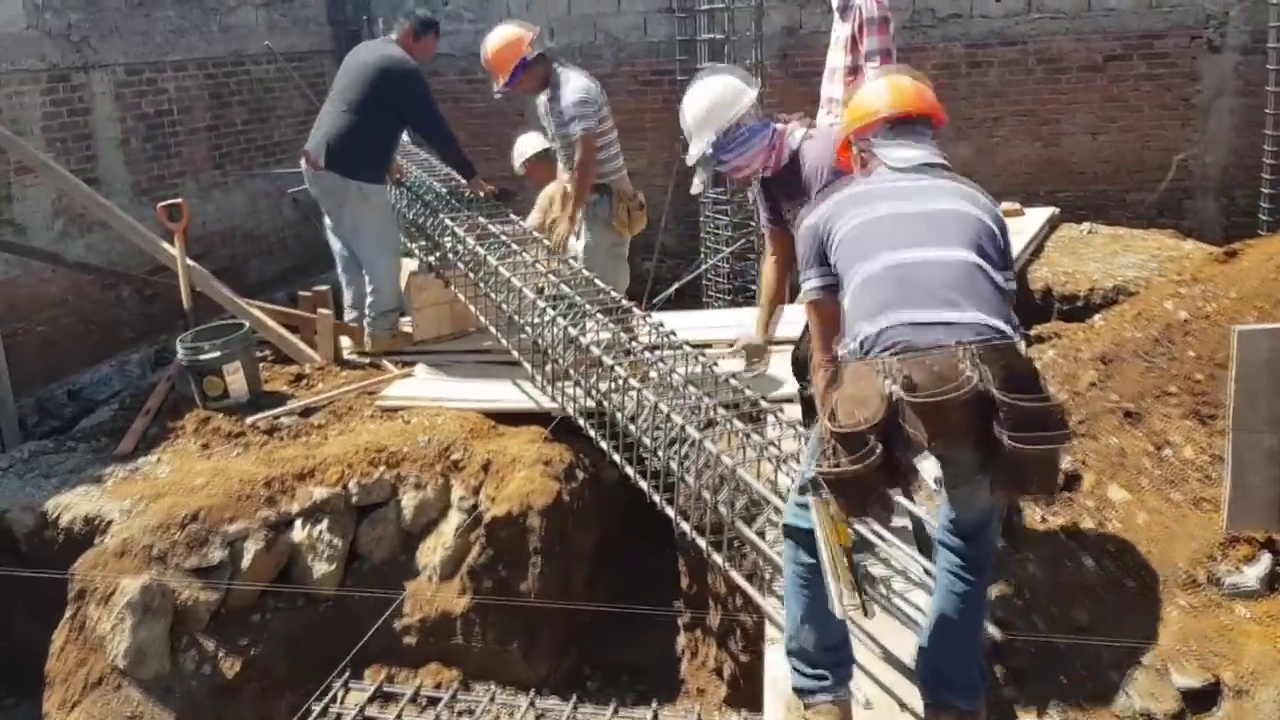helmet: (833, 61, 954, 151), (678, 69, 763, 167), (480, 18, 536, 91), (510, 131, 553, 176)
helmet-off: (384, 6, 443, 65)
helmet-on: (831, 52, 957, 192), (684, 68, 796, 197), (480, 22, 556, 110), (510, 129, 559, 192)
person: (781, 50, 1041, 720), (300, 4, 466, 351), (479, 24, 648, 293), (674, 66, 826, 344), (817, 2, 898, 194), (510, 127, 572, 236)
